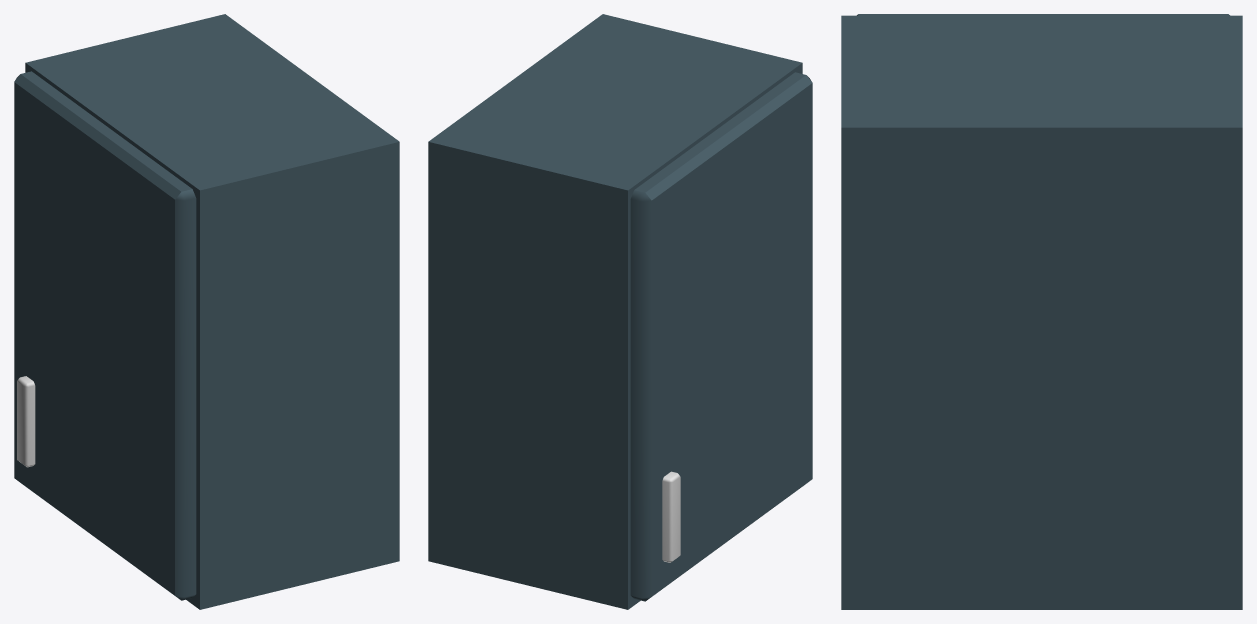
File: kitchen_049.fbx
3 renders of one model, left to right at view 1: azimuth 30°, elevation 25°; view 2: azimuth 150°, elevation 25°; view 3: azimuth 270°, elevation 25°, orthographic. The views are drawn at different scales.
Parts seen in each view (by area): view 1: kitchen_049; view 2: kitchen_049; view 3: kitchen_049.
Part boxes in pixels (x1,y1,x2,y2): kitchen_049: [14, 14, 399, 609]; kitchen_049: [428, 14, 812, 609]; kitchen_049: [841, 14, 1242, 609].
Bounding box in the file's own units: 56.53 × 75.42 × 100.
